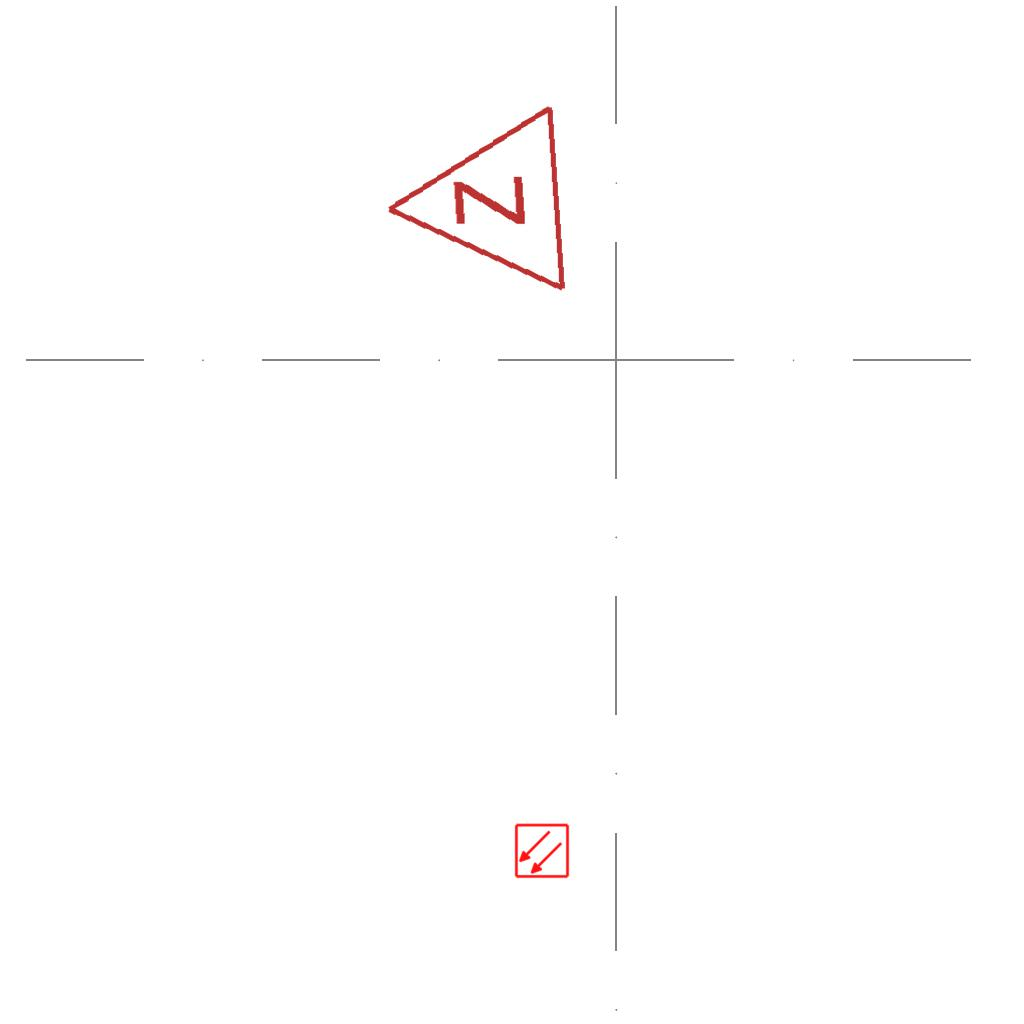RMO_Rauchmelder_optischer: (514, 823, 570, 879)
Zimmersignalleuchte: (367, 101, 581, 311)
